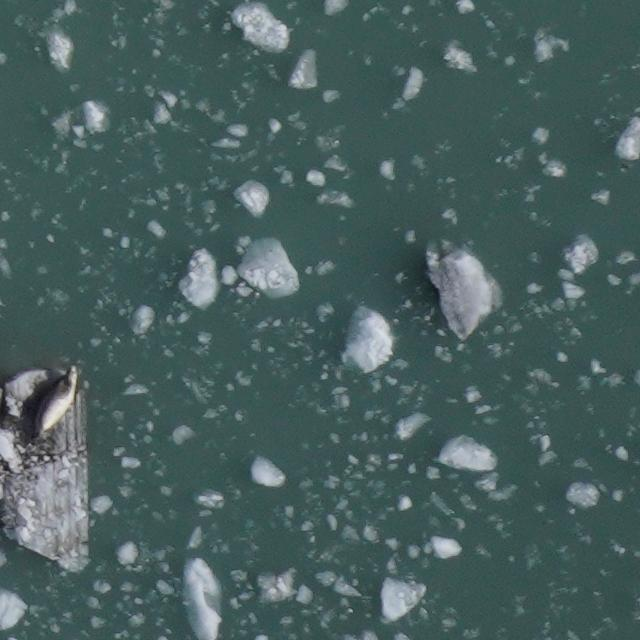seal: (25, 361, 82, 447)
